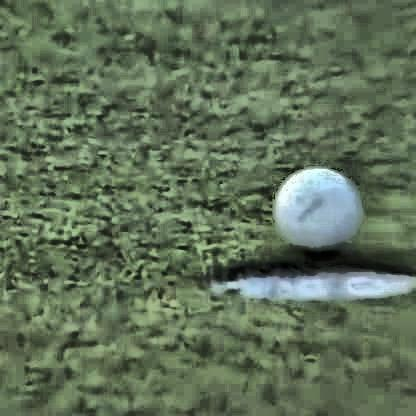golfball: (270, 163, 358, 251)
